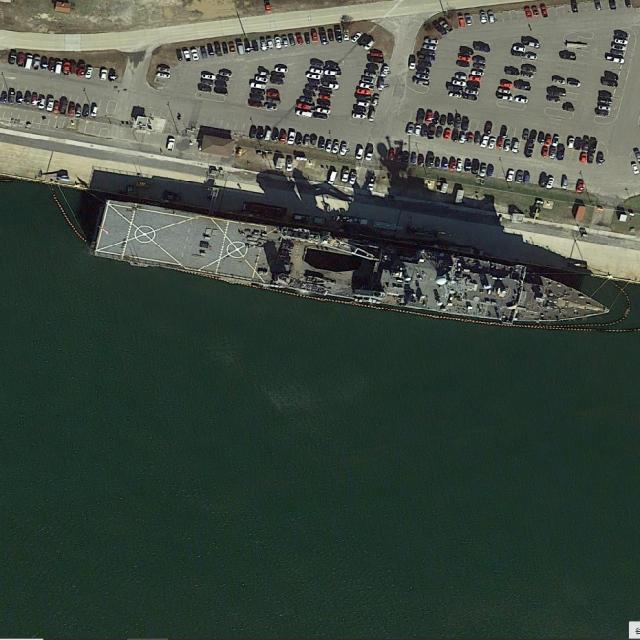Landing: (91, 195, 617, 343)
